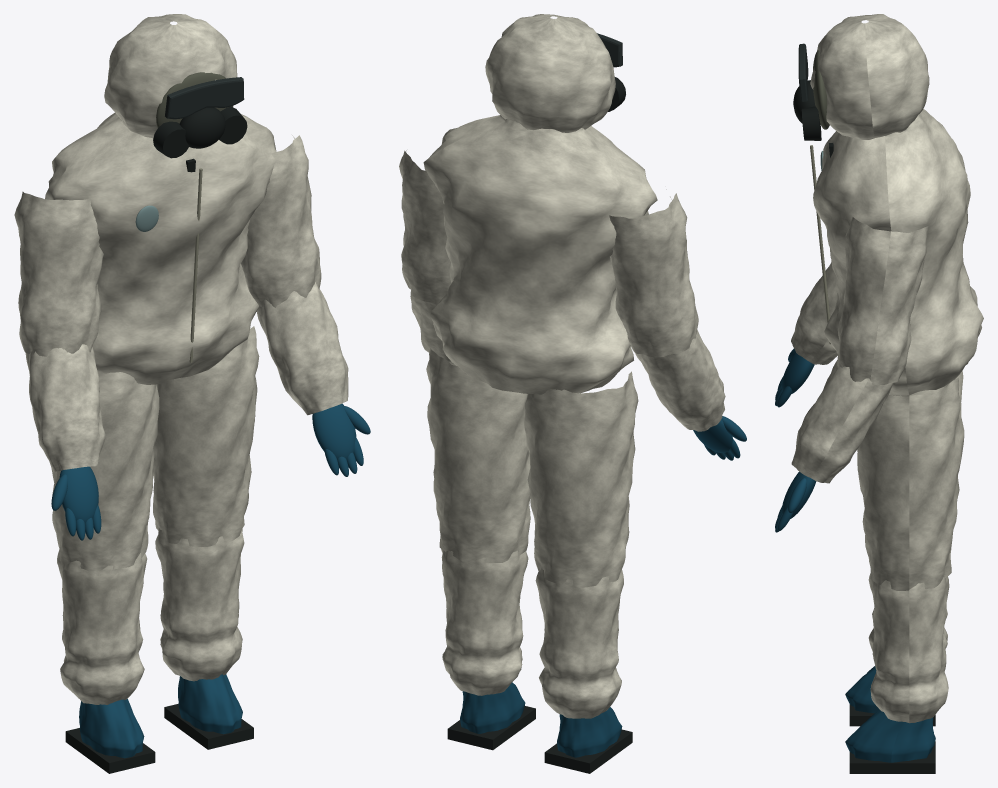
File: cleanroom-reconstruction.glb
3 views of the same model, side by side, from view 1: azimuth 30°, elevation 25°; view 2: azimuth 150°, elevation 25°; view 3: azimuth 270°, elevation 25° (orthographic).
Parts seen in each view (by area): view 1: CoverallBody, TrouserUpperR, SleeveUpperL, TrouserUpperL, TrouserLowerL, TrouserLowerR, FabricHood, SleeveUpperR, SleeveLowerL, SleeveLowerR, BootR, BootL (+10 smaller); view 2: CoverallBody, TrouserUpperL, TrouserUpperR, FabricHood, SleeveUpperL, TrouserLowerL, TrouserLowerR, SleeveUpperR, SleeveLowerL, BootR, BootL, BootSoleL (+3 smaller); view 3: CoverallBody, TrouserUpperR, FabricHood, SleeveUpperR, TrouserLowerR, SleeveLowerR, BootR, SleeveLowerL, BootSoleR, BootL, GloveL, FaceSeal (+5 smaller).
Part boxes in pixels (<box>): CoverallBody: <box>45,113,276,384</box>; TrouserUpperR: <box>153,326,259,546</box>; SleeveUpperL: <box>14,191,103,356</box>; TrouserUpperL: <box>49,372,159,571</box>; TrouserLowerL: <box>57,549,147,704</box>; TrouserLowerR: <box>155,527,244,681</box>; FabricHood: <box>104,14,237,138</box>; SleeveUpperR: <box>241,135,321,307</box>; SleeveLowerL: <box>25,344,105,471</box>; SleeveLowerR: <box>256,282,348,415</box>; BootR: <box>178,674,242,734</box>; BootL: <box>79,699,144,758</box>; CoverallBody: <box>423,115,657,394</box>; TrouserUpperL: <box>523,371,638,587</box>; TrouserUpperR: <box>426,347,530,562</box>; FabricHood: <box>485,14,615,132</box>; SleeveUpperL: <box>609,189,698,357</box>; TrouserLowerL: <box>535,568,623,718</box>; TrouserLowerR: <box>441,549,528,695</box>; SleeveUpperR: <box>399,150,451,304</box>; SleeveLowerL: <box>635,330,725,431</box>; BootR: <box>460,682,525,733</box>; BootL: <box>557,707,622,757</box>; BootSoleL: <box>544,729,632,773</box>; CoverallBody: <box>813,109,983,395</box>; TrouserUpperR: <box>857,378,964,590</box>; FabricHood: <box>810,14,929,139</box>; SleeveUpperR: <box>837,217,928,385</box>; TrouserLowerR: <box>868,573,949,723</box>; SleeveLowerR: <box>791,360,893,483</box>; BootR: <box>845,709,935,762</box>; SleeveLowerL: <box>791,262,837,364</box>; BootSoleR: <box>849,741,935,773</box>; BootL: <box>845,666,879,713</box>; GloveL: <box>781,352,814,393</box>; FaceSeal: <box>813,50,829,129</box>.
Size of the model in its own units: 0.5679 by 1.24 by 0.3278.
Materials: 7 (1 with a texture image).
